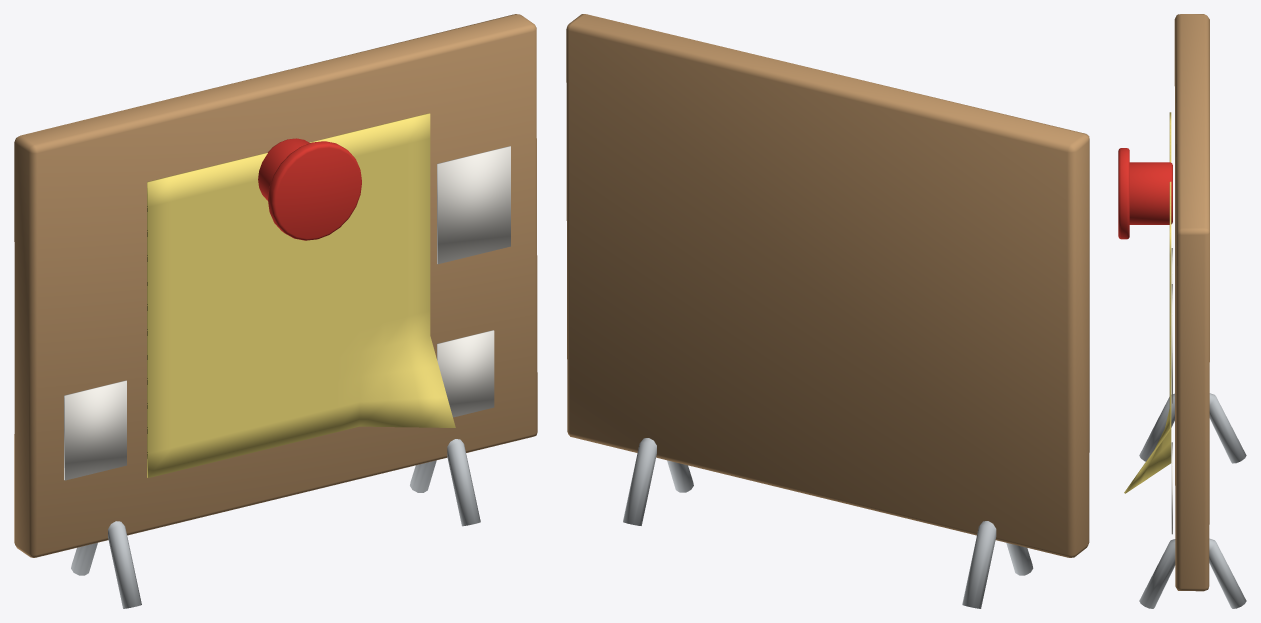
The model's file is training-titleboard.glb.
3 renders of one model, left to right at view 1: azimuth 30°, elevation 25°; view 2: azimuth 150°, elevation 25°; view 3: azimuth 270°, elevation 25°, orthographic. The views are drawn at different scales.
Visible parts, largest first — view 1: TitleBoard__Board, TitleBoard__Note, TitleBoard__Scraps, TitleBoard__PushPin, TitleBoard__Feet; view 2: TitleBoard__Board, TitleBoard__Feet; view 3: TitleBoard__Board, TitleBoard__Feet, TitleBoard__PushPin, TitleBoard__Note, TitleBoard__Scraps.
Part boxes in pixels (bbox=[...]): TitleBoard__Board: bbox=[14, 14, 537, 557]; TitleBoard__Note: bbox=[147, 113, 455, 477]; TitleBoard__Scraps: bbox=[64, 146, 510, 480]; TitleBoard__PushPin: bbox=[258, 138, 361, 240]; TitleBoard__Feet: bbox=[71, 439, 480, 608]; TitleBoard__Board: bbox=[566, 14, 1089, 557]; TitleBoard__Feet: bbox=[623, 438, 1033, 608]; TitleBoard__Board: bbox=[1174, 14, 1209, 591]; TitleBoard__Feet: bbox=[1139, 393, 1246, 608]; TitleBoard__PushPin: bbox=[1118, 148, 1172, 239]; TitleBoard__Note: bbox=[1124, 112, 1171, 493]; TitleBoard__Scraps: bbox=[1171, 248, 1172, 534].
Bounding box in the file's own units: 18.03 × 15.93 × 4.47.
